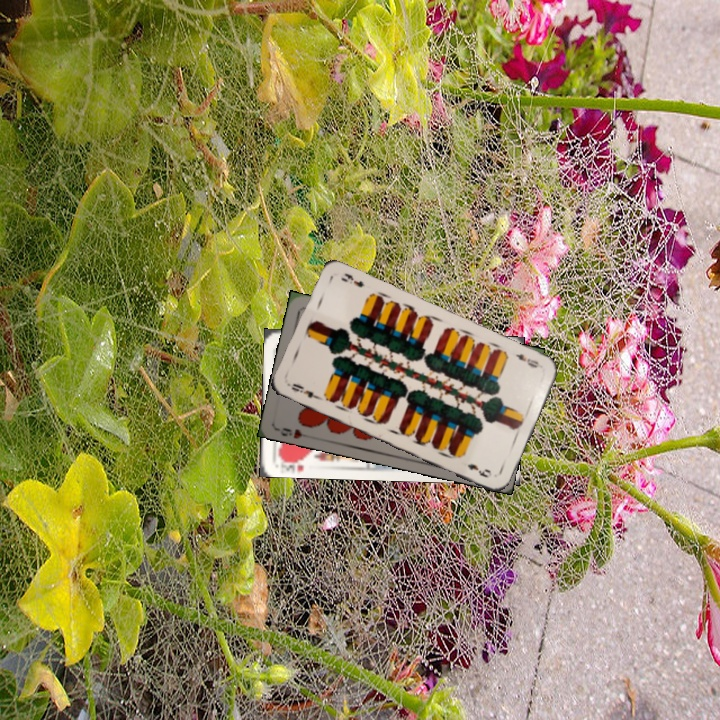E9: (285, 379, 324, 403), (512, 349, 545, 371)
H9: (277, 424, 305, 441)
HK: (275, 453, 310, 473)
